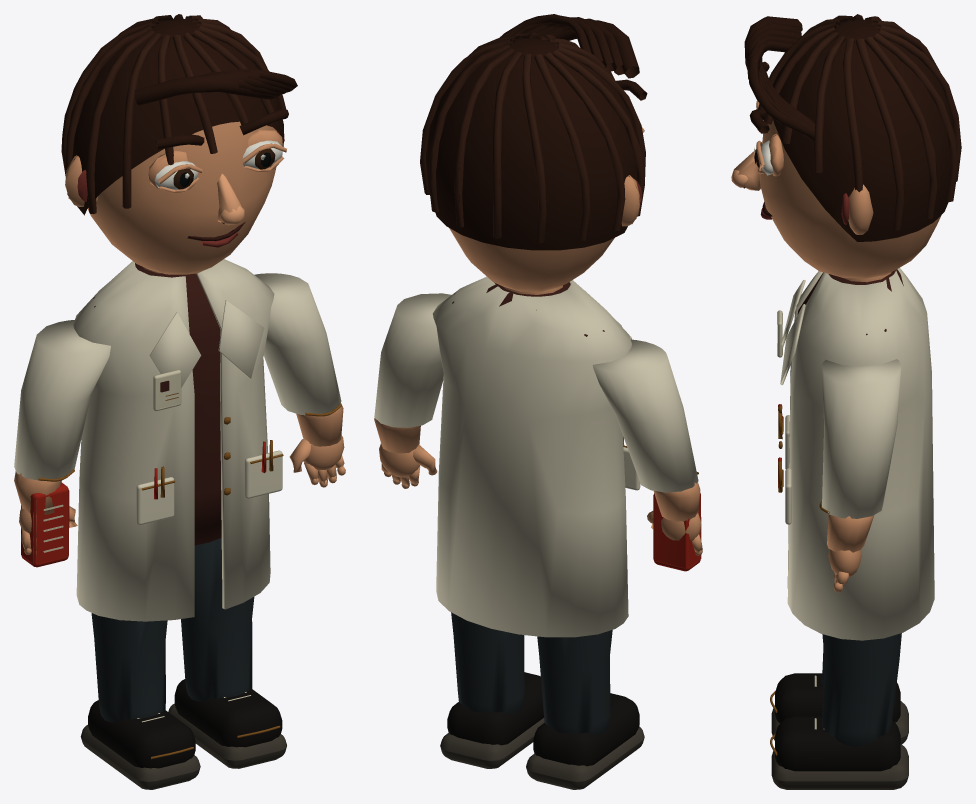
File: doctor-20.glb
The picture shows the model from 3 angles, left to right: view 1: azimuth 30°, elevation 25°; view 2: azimuth 150°, elevation 25°; view 3: azimuth 270°, elevation 25°; orthographic projection.
Parts seen in each view (by area): view 1: Body, Head, LegR, LegL, ArmL, ArmR; view 2: Body, Head, LegL, ArmL, LegR, ArmR; view 3: Head, Body, LegR, ArmR, LegL.
Boxes of the visible parts, x1=… form: Body: x1=21, y1=259, x2=283, y2=621; Head: x1=61, y1=14, x2=297, y2=274; LegR: x1=168, y1=538, x2=286, y2=768; LegL: x1=80, y1=613, x2=200, y2=789; ArmL: x1=14, y1=320, x2=110, y2=556; ArmR: x1=254, y1=273, x2=345, y2=487; Body: x1=432, y1=276, x2=701, y2=637; Head: x1=420, y1=14, x2=647, y2=291; LegL: x1=526, y1=630, x2=644, y2=789; ArmL: x1=592, y1=339, x2=702, y2=555; LegR: x1=440, y1=612, x2=544, y2=768; ArmR: x1=374, y1=293, x2=451, y2=488; Head: x1=731, y1=14, x2=961, y2=278; Body: x1=777, y1=268, x2=934, y2=640; LegR: x1=770, y1=633, x2=908, y2=789; ArmR: x1=819, y1=359, x2=901, y2=592; LegL: x1=770, y1=647, x2=908, y2=743.
Size of the model in its own units: 0.6212 by 1.33 by 0.3787.
